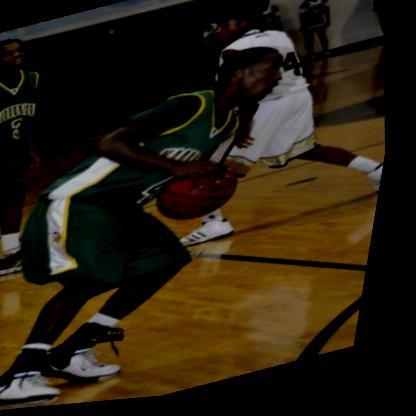basketball: (156, 160, 252, 232)
